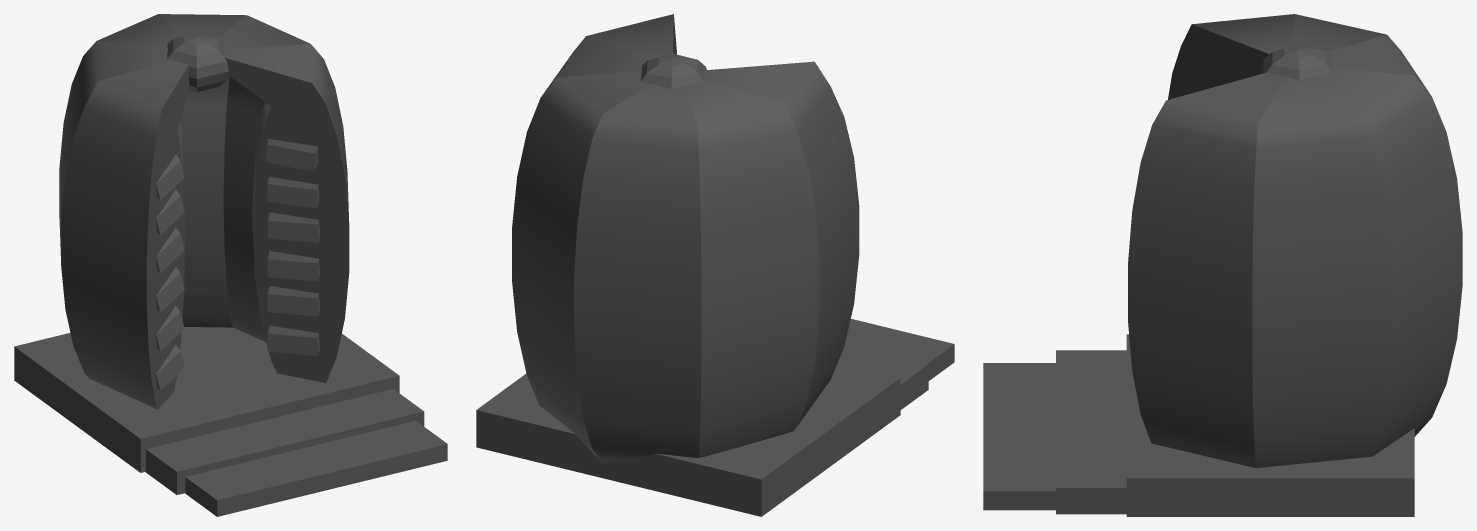
File: Pod.obj
The picture shows the model from 3 angles, left to right: view 1: azimuth 30°, elevation 25°; view 2: azimuth 150°, elevation 25°; view 3: azimuth 270°, elevation 25°; orthographic projection. The views are drawn at different scales.
Parts seen in each view (by area): view 1: group8_pasted__group5_pasted__pasted__pCube2; view 2: group8_pasted__group5_pasted__pasted__pCube2; view 3: group8_pasted__group5_pasted__pasted__pCube2.
Part boxes in pixels (left/top/right/bottom): group8_pasted__group5_pasted__pasted__pCube2: left=14, top=14, right=447, bottom=516; group8_pasted__group5_pasted__pasted__pCube2: left=476, top=14, right=954, bottom=516; group8_pasted__group5_pasted__pasted__pCube2: left=983, top=14, right=1462, bottom=516.
Size of the model in its own units: 4.45 by 5.6 by 6.12.
